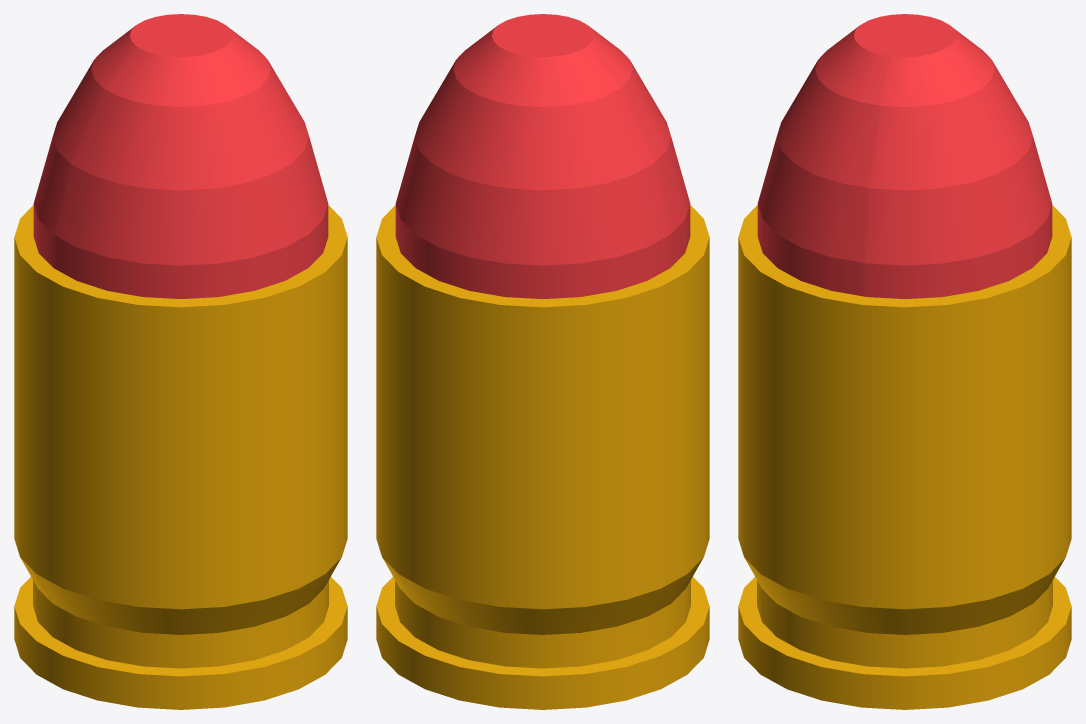
Rendered from ammo_machinegunLauncher.dae.
3 views of the same model, side by side, from view 1: azimuth 30°, elevation 25°; view 2: azimuth 150°, elevation 25°; view 3: azimuth 270°, elevation 25° (orthographic).
Visible parts, largest first — view 1: Group (×2); view 2: Group (×2); view 3: Group (×2).
Boxes of the visible parts, x1,y1,x2,y2 form: Group (×2): [14, 14, 347, 709]; Group (×2): [376, 14, 709, 709]; Group (×2): [738, 14, 1071, 709].
Bounding box in the file's own units: 0.0345 × 0.0689 × 0.0345.
